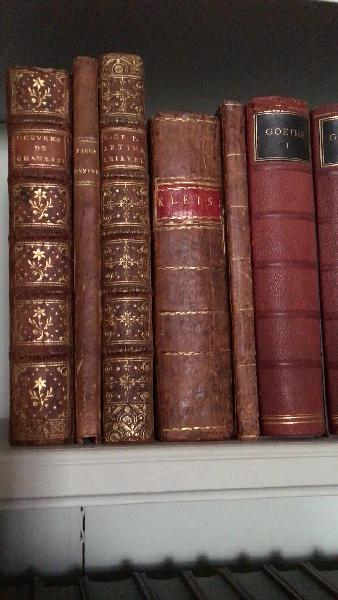Aa6-10: (222, 92, 264, 450)
Aa6-6: (12, 63, 75, 447)
Aa6-7: (71, 57, 105, 446)
Aa6-8: (103, 49, 159, 448)
Aa6-9: (149, 103, 233, 440)
